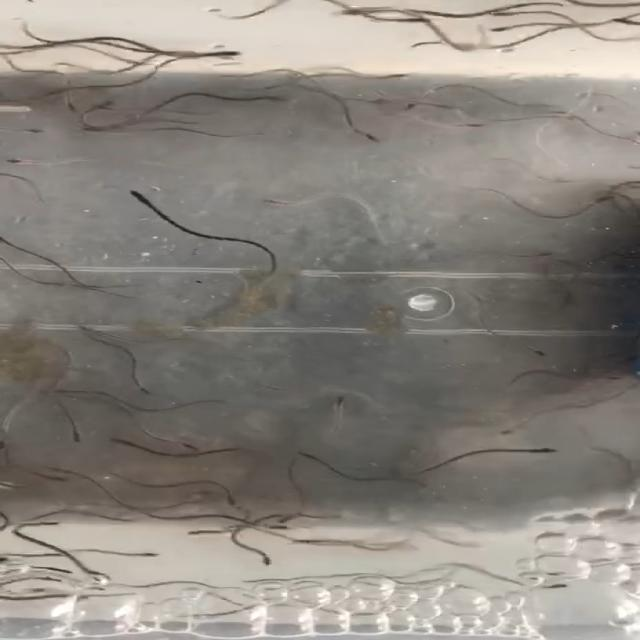active_glass_eel: (477, 5, 535, 22), (85, 74, 136, 92), (260, 89, 310, 107), (63, 425, 98, 449), (533, 566, 575, 586), (44, 380, 90, 398), (178, 603, 216, 624), (263, 522, 313, 537), (133, 378, 167, 400), (24, 576, 73, 591), (3, 0, 52, 15), (110, 187, 158, 202), (521, 578, 561, 595), (73, 317, 105, 338), (263, 504, 307, 519), (186, 525, 233, 539), (426, 466, 452, 491), (146, 550, 200, 562), (95, 431, 131, 449), (580, 115, 620, 131), (0, 153, 40, 169), (170, 436, 202, 456), (14, 121, 54, 137), (324, 5, 377, 17), (525, 241, 560, 259), (165, 43, 200, 61), (84, 548, 125, 563), (126, 532, 166, 547), (292, 442, 320, 463), (482, 22, 526, 35), (38, 466, 64, 488), (31, 513, 66, 529), (581, 172, 624, 185), (322, 393, 348, 414), (211, 493, 247, 508), (263, 190, 296, 206), (488, 426, 521, 442), (600, 191, 640, 204), (384, 70, 418, 85), (393, 13, 432, 26), (69, 125, 105, 139), (608, 353, 639, 369), (64, 95, 90, 114), (521, 343, 553, 358), (528, 441, 558, 457), (42, 593, 74, 608), (248, 558, 282, 572), (354, 128, 387, 142), (0, 434, 20, 457), (87, 562, 110, 582), (361, 94, 388, 111), (86, 95, 112, 112), (283, 534, 317, 547), (466, 118, 502, 130), (606, 15, 640, 27), (42, 466, 78, 477), (593, 97, 624, 109), (378, 397, 408, 409), (0, 233, 22, 249), (220, 47, 250, 58), (0, 179, 25, 192), (588, 193, 615, 205), (401, 98, 430, 109), (17, 67, 48, 77)
